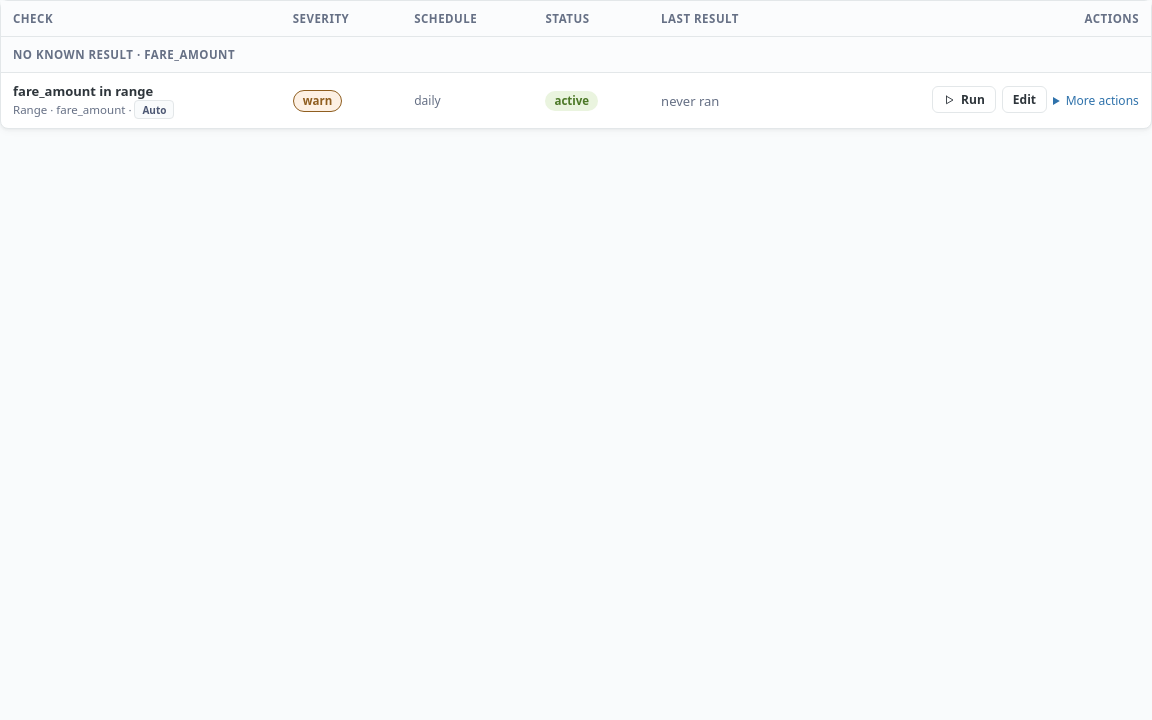
Edit check — schedule › names the kind select and the expression box separately, inside one group
Click the button "Edit" at coordinates (1024, 100), box [1002,86,1047,113]
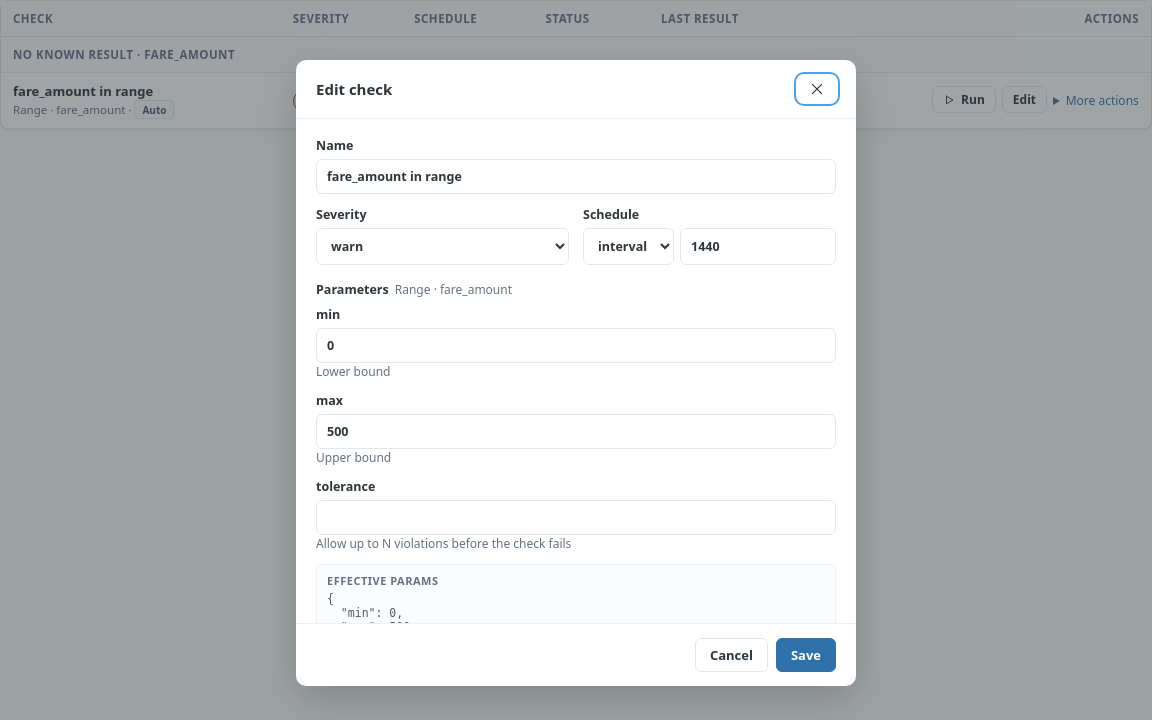
Result: the dropdown named "Schedule kind" shows "interval" at [583,228,674,265]
Result: the field named "Interval in minutes" holds "1440" at [680,228,836,265]
